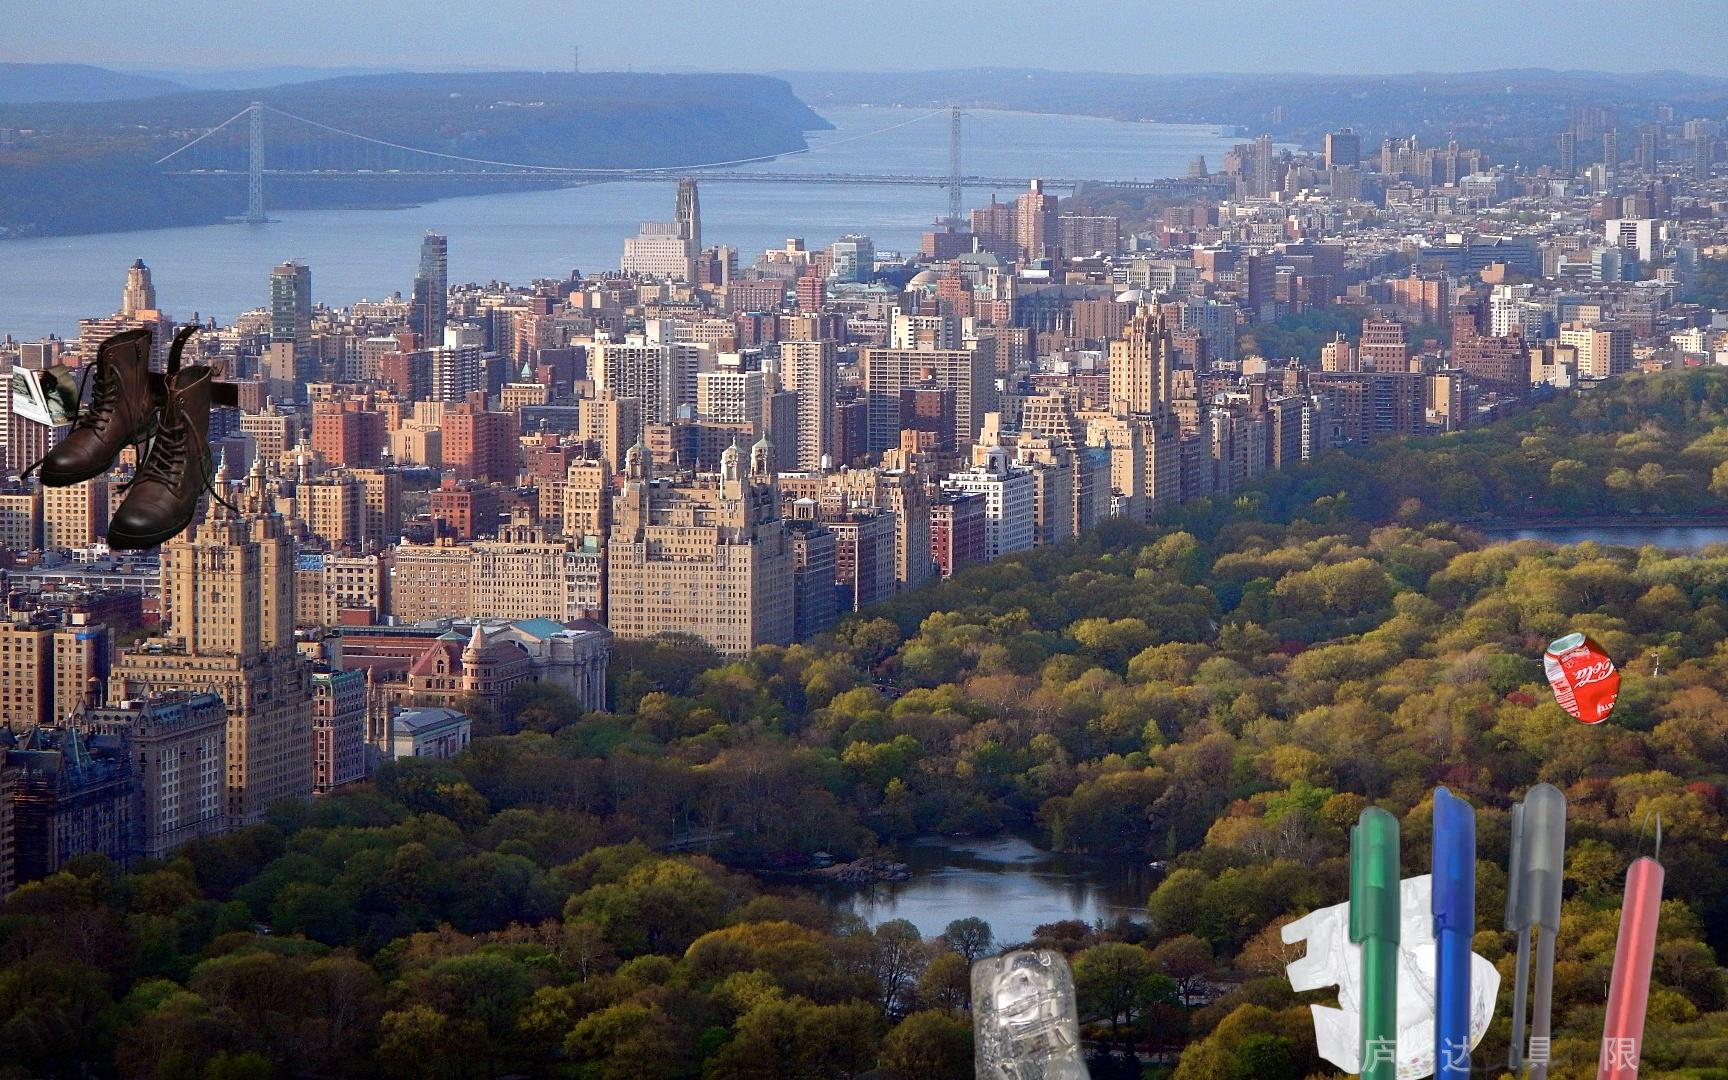metal-cans: (1538, 239, 1706, 730)
penholder: (1339, 776, 1728, 1080)
plastic-bottles: (965, 923, 1237, 1080)
shoes: (12, 326, 238, 551)
trash: (1278, 870, 1503, 1080)
